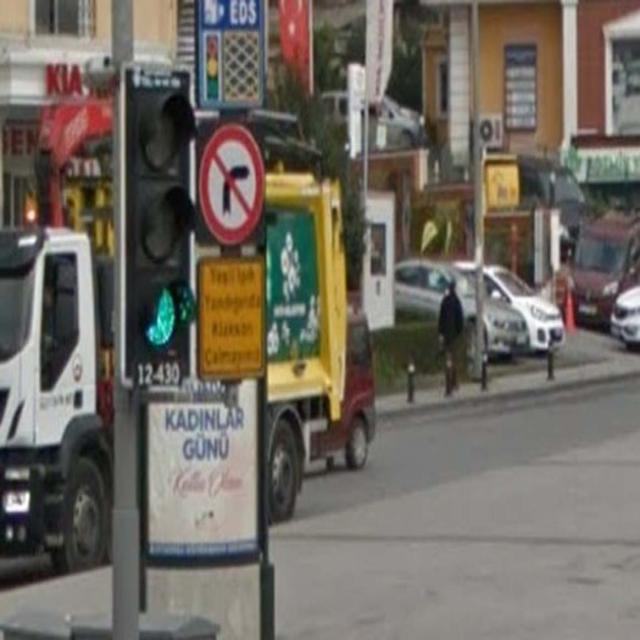sagadonulmez: (200, 124, 265, 242)
yesil: (120, 62, 194, 385)
